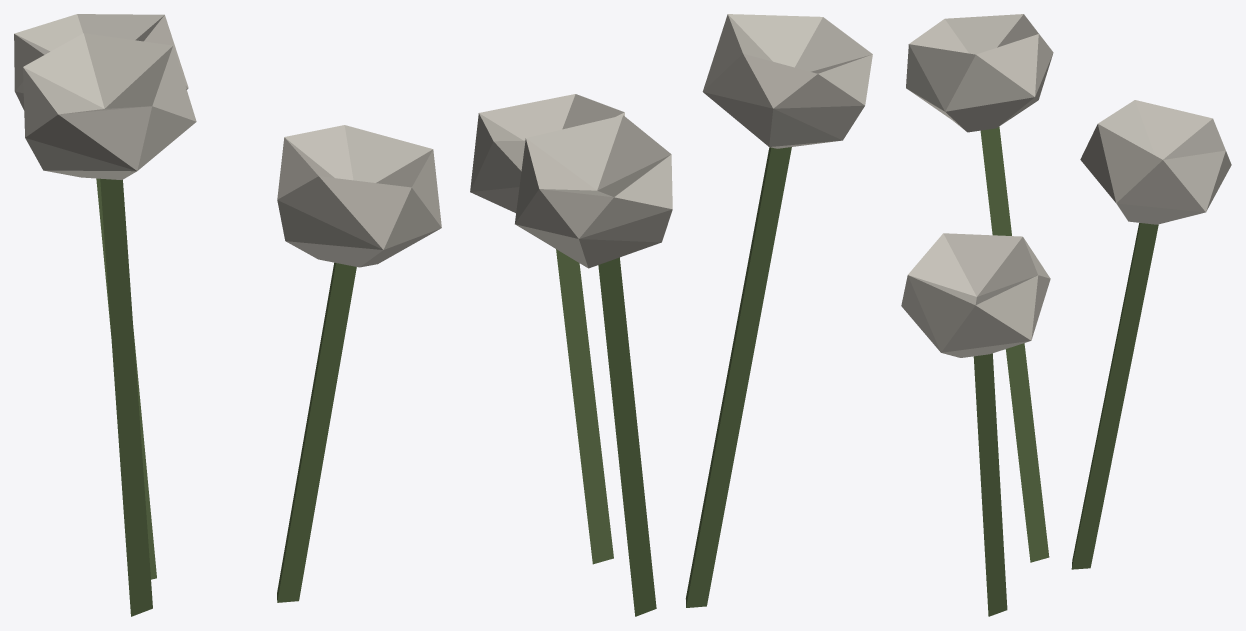
The model's file is SM_Envr_Nature_Plant_Flower_Group_02.fbx.
3 renders of one model, left to right at view 1: azimuth 30°, elevation 25°; view 2: azimuth 150°, elevation 25°; view 3: azimuth 270°, elevation 25°, orthographic. The views are drawn at different scales.
Parts seen in each view (by area): view 1: SM_Envr_Nature_Plant_Flower_Group_02; view 2: SM_Envr_Nature_Plant_Flower_Group_02; view 3: SM_Envr_Nature_Plant_Flower_Group_02.
Boxes of the visible parts, box(x1,y1,x2,y2) form: SM_Envr_Nature_Plant_Flower_Group_02: box(14, 14, 441, 616); SM_Envr_Nature_Plant_Flower_Group_02: box(470, 14, 872, 616); SM_Envr_Nature_Plant_Flower_Group_02: box(901, 14, 1231, 616).
Size of the model in its own units: 43.22 by 60.41 by 35.7.
